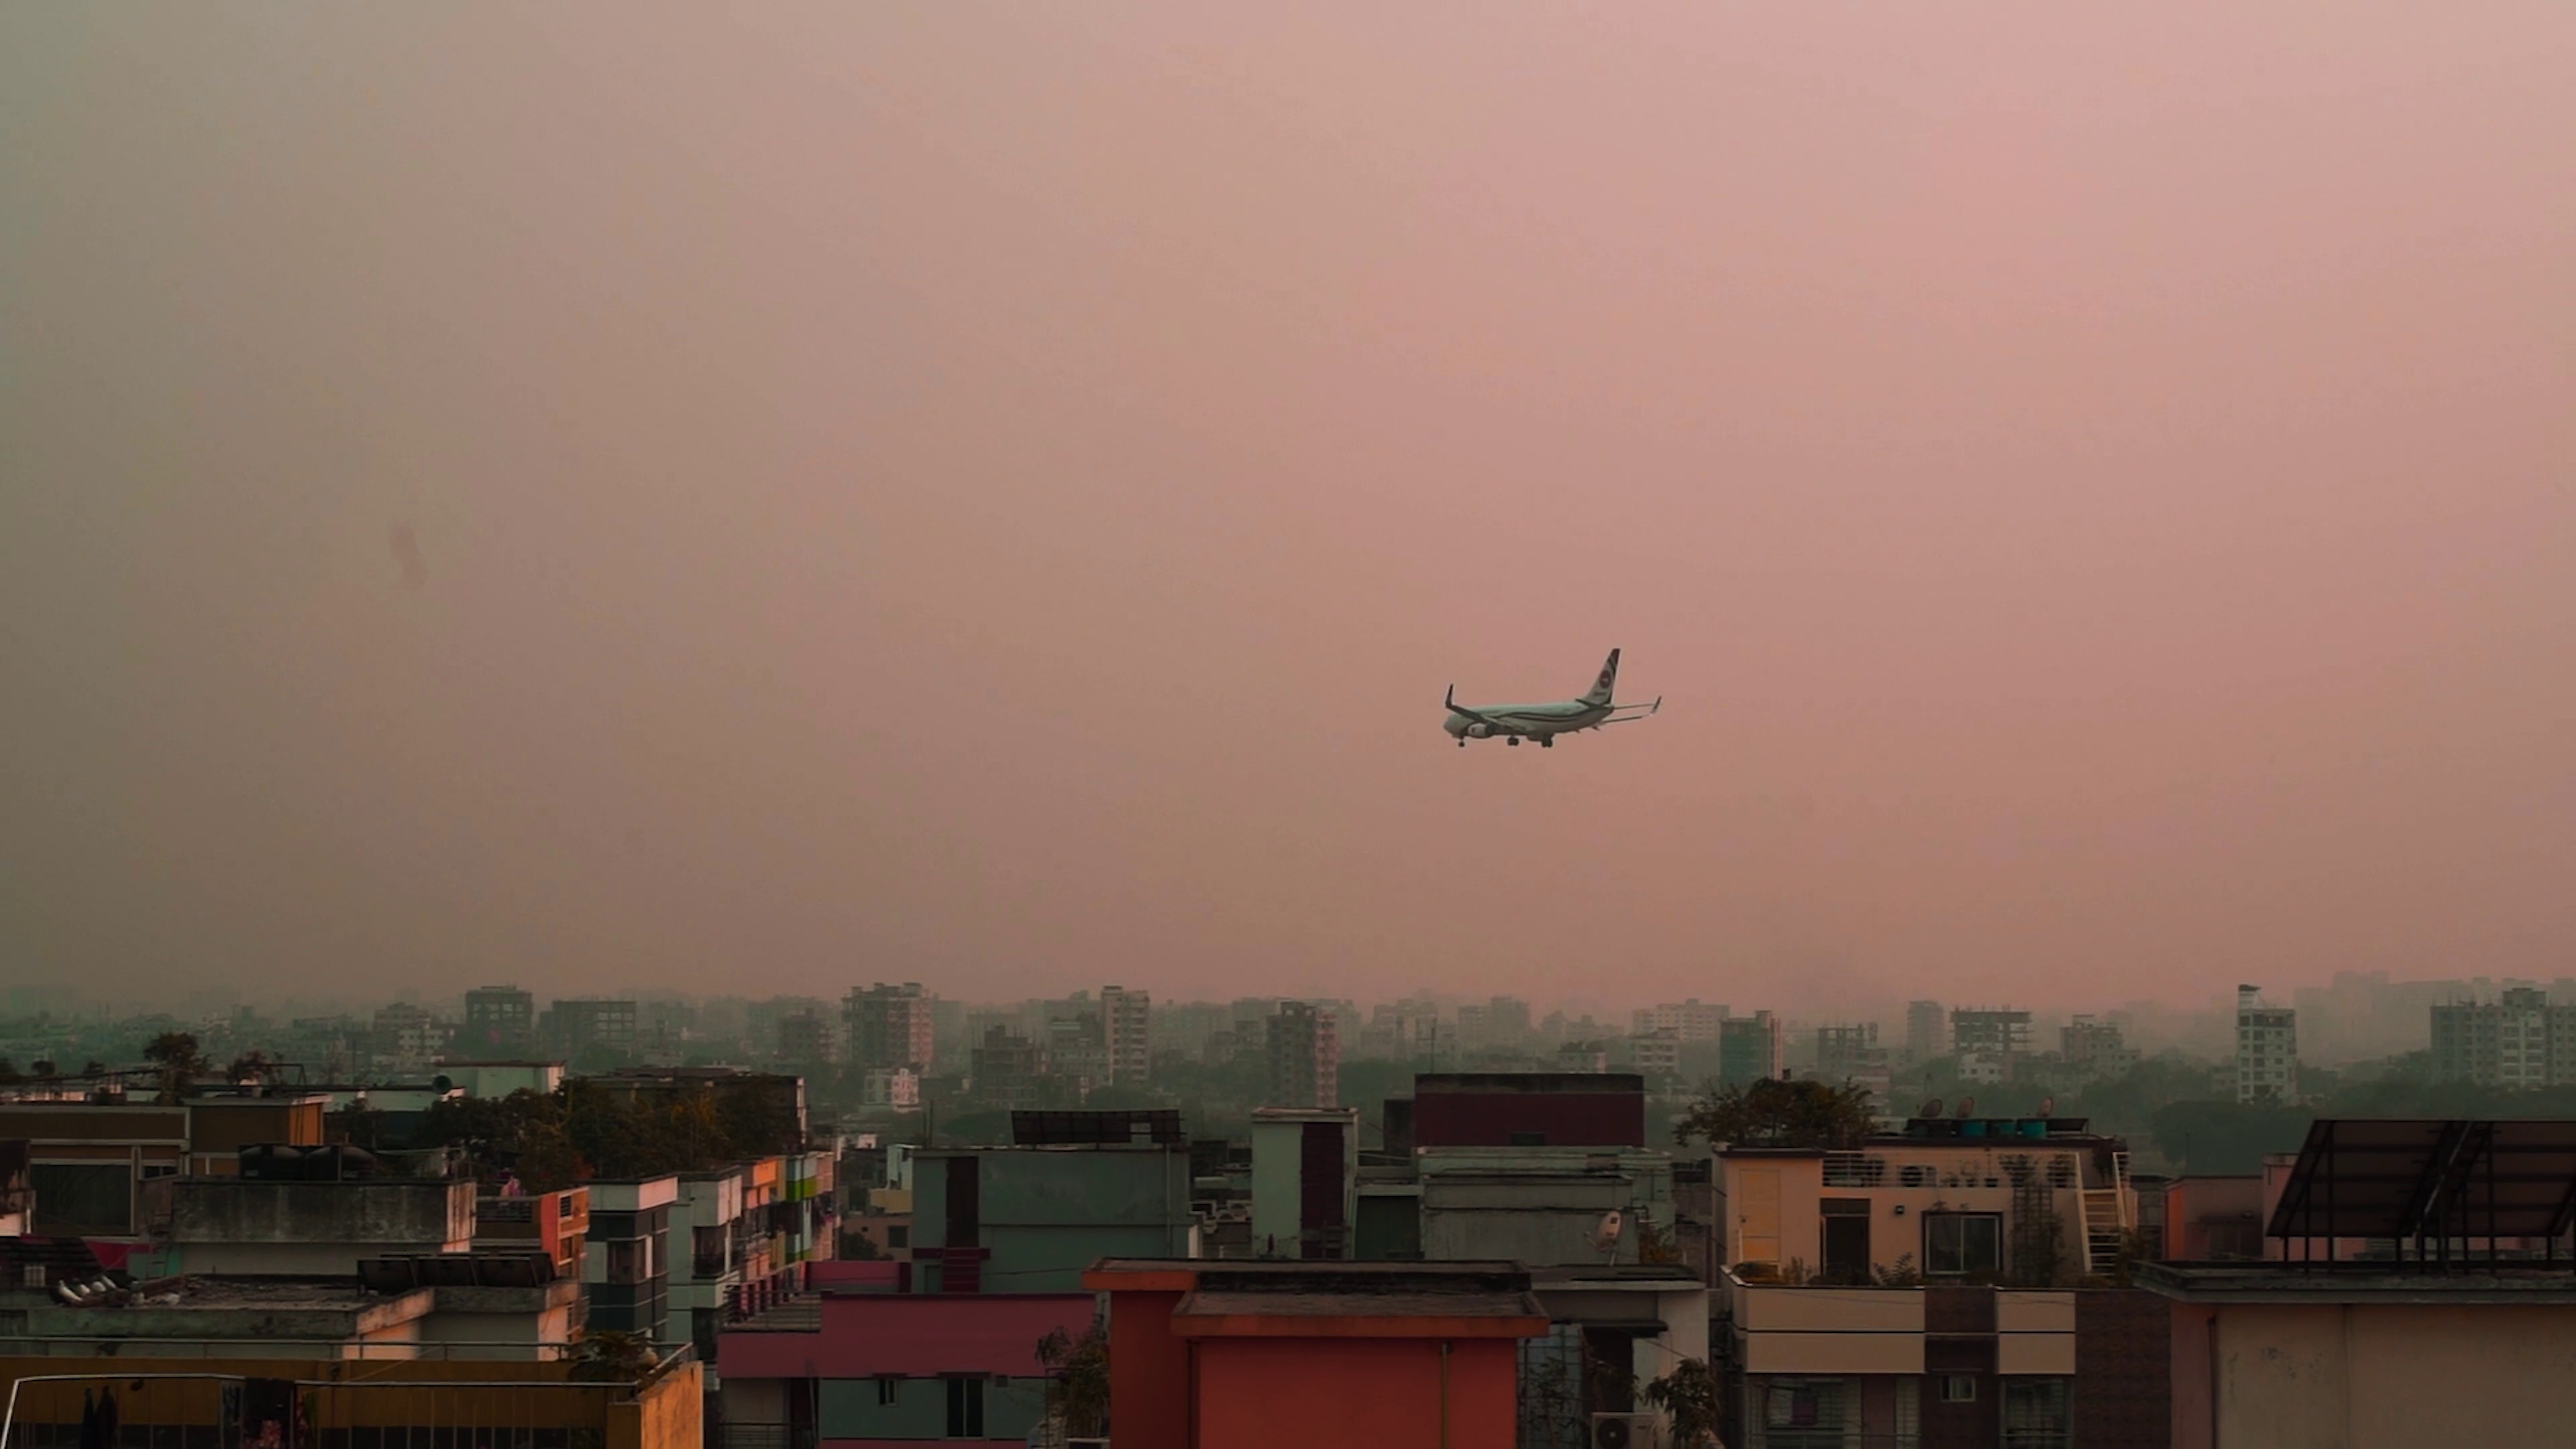plane: (1440, 648, 1663, 747)
